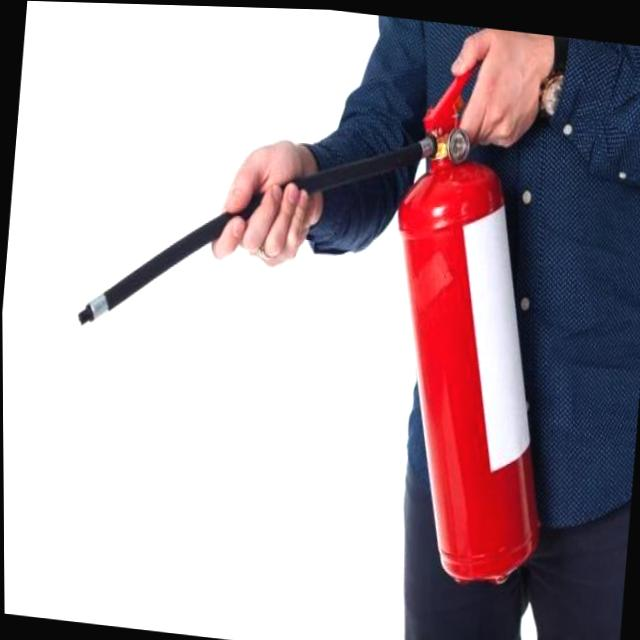FireExtinguisher: (47, 1, 589, 597)
